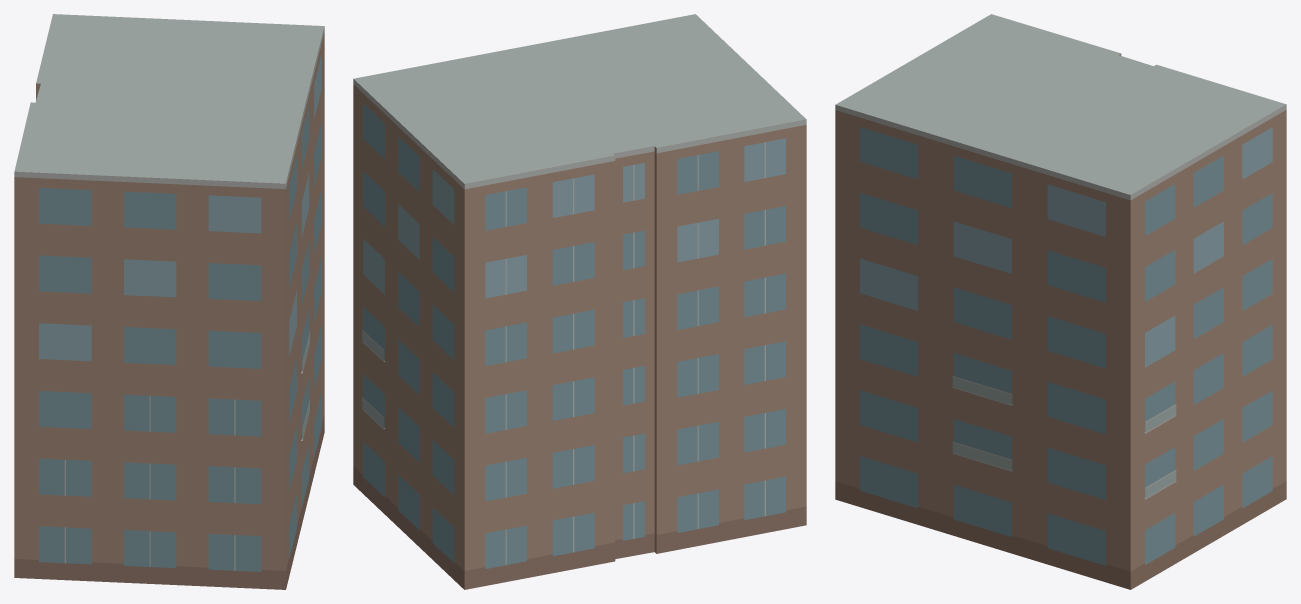
File: survey-upis-32554210.glb
The picture shows the model from 3 angles, left to right: view 1: azimuth 30°, elevation 25°; view 2: azimuth 150°, elevation 25°; view 3: azimuth 270°, elevation 25°; orthographic projection. The views are drawn at different scales.
Visible parts, largest first — view 1: survey-upis-32554210.tmp; view 2: survey-upis-32554210.tmp; view 3: survey-upis-32554210.tmp.
Boxes of the visible parts, bbox=[...] form: survey-upis-32554210.tmp: bbox=[14, 14, 324, 589]; survey-upis-32554210.tmp: bbox=[353, 14, 806, 589]; survey-upis-32554210.tmp: bbox=[835, 14, 1286, 589].
Size of the model in its own units: 18.01 by 18.3 by 18.97.
